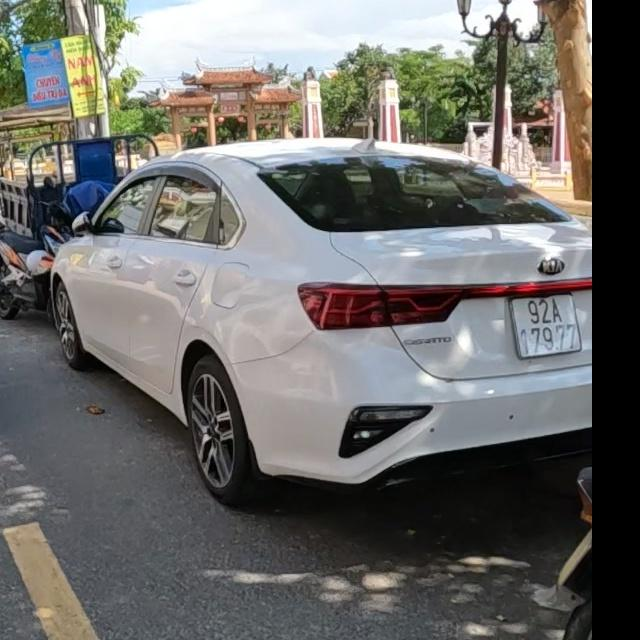license-plate: (509, 291, 584, 362)
